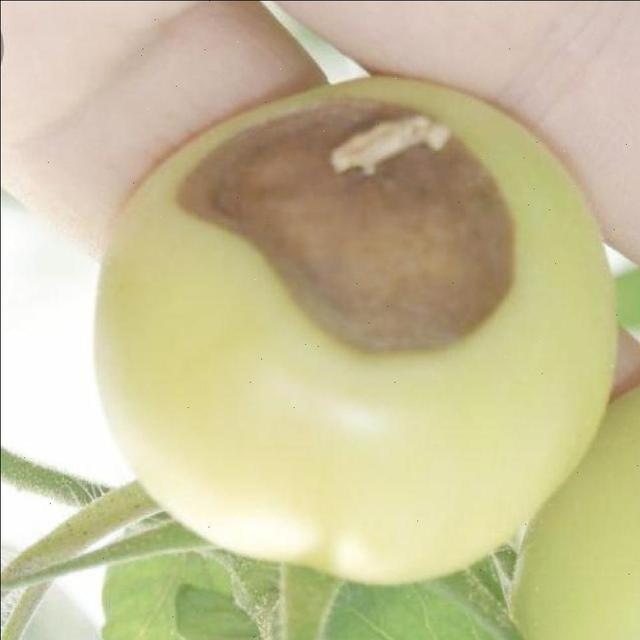Blossom End Rot Fruit: (113, 66, 346, 244)
